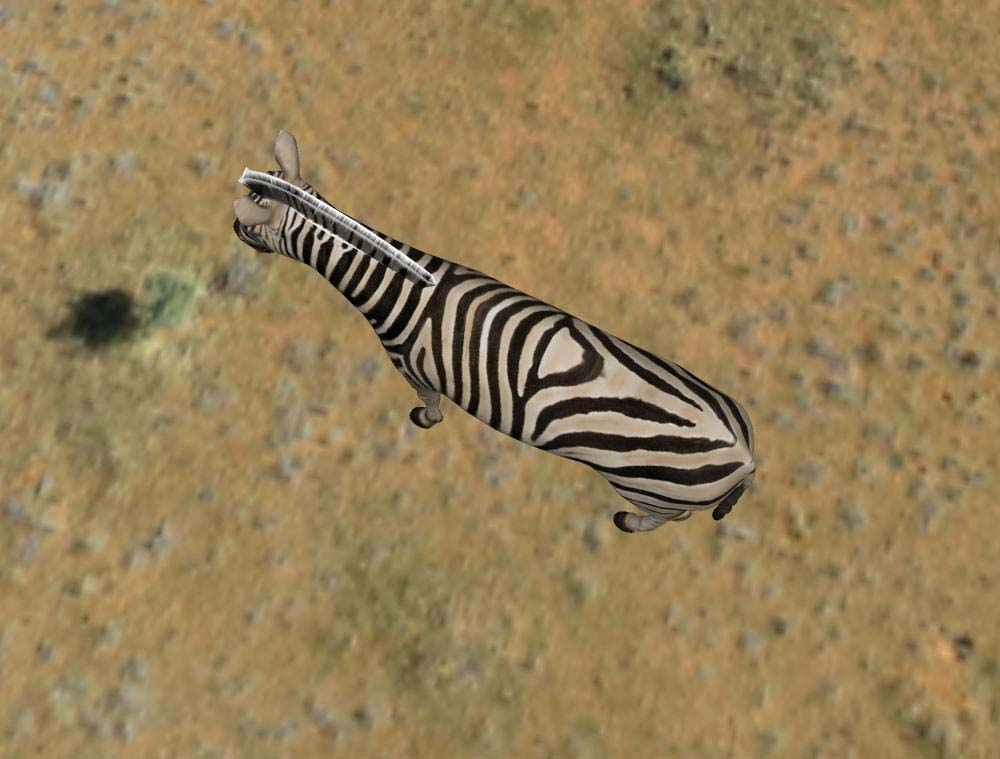zebra: (229, 123, 763, 559)
